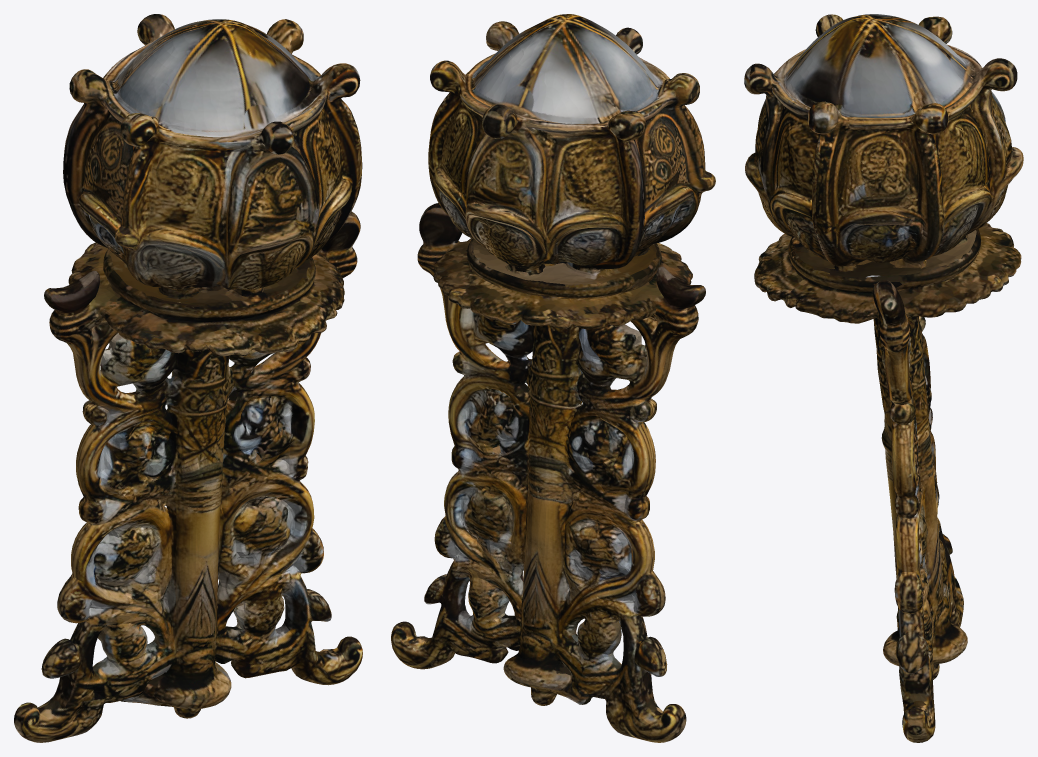
The picture shows the model from 3 angles, left to right: view 1: azimuth 30°, elevation 25°; view 2: azimuth 150°, elevation 25°; view 3: azimuth 270°, elevation 25°; orthographic projection. The views are drawn at different scales.
Parts seen in each view (by area): view 1: textured_mesh; view 2: textured_mesh; view 3: textured_mesh.
Boxes of the visible parts, x1,y1,x2,y2 form: textured_mesh: (14, 14, 362, 742); textured_mesh: (391, 14, 715, 742); textured_mesh: (744, 14, 1023, 742).
Size of the model in its own units: 0.9607 by 2 by 0.7614.
1 material, 1 textured.
